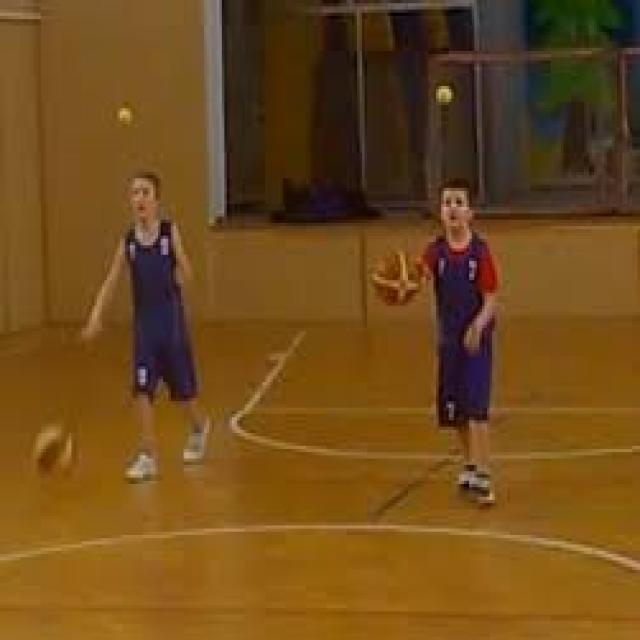Tennis-Ball: (435, 84, 453, 106), (118, 106, 132, 124)
